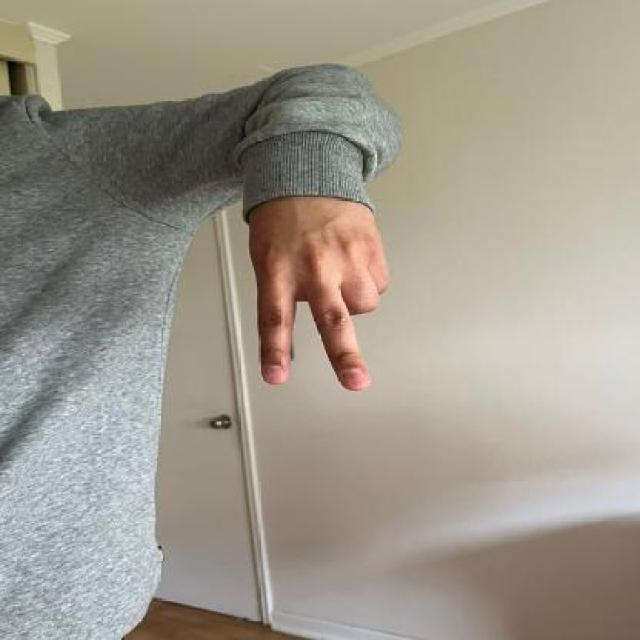N: (235, 161, 399, 394)
